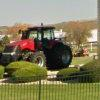Tractor: (1, 9, 76, 72)
